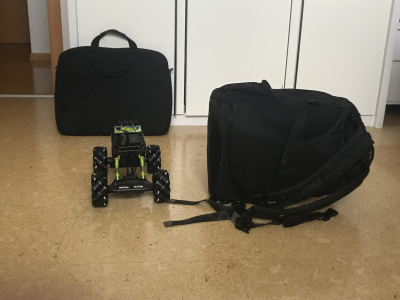remote control car: (88, 118, 173, 209)
